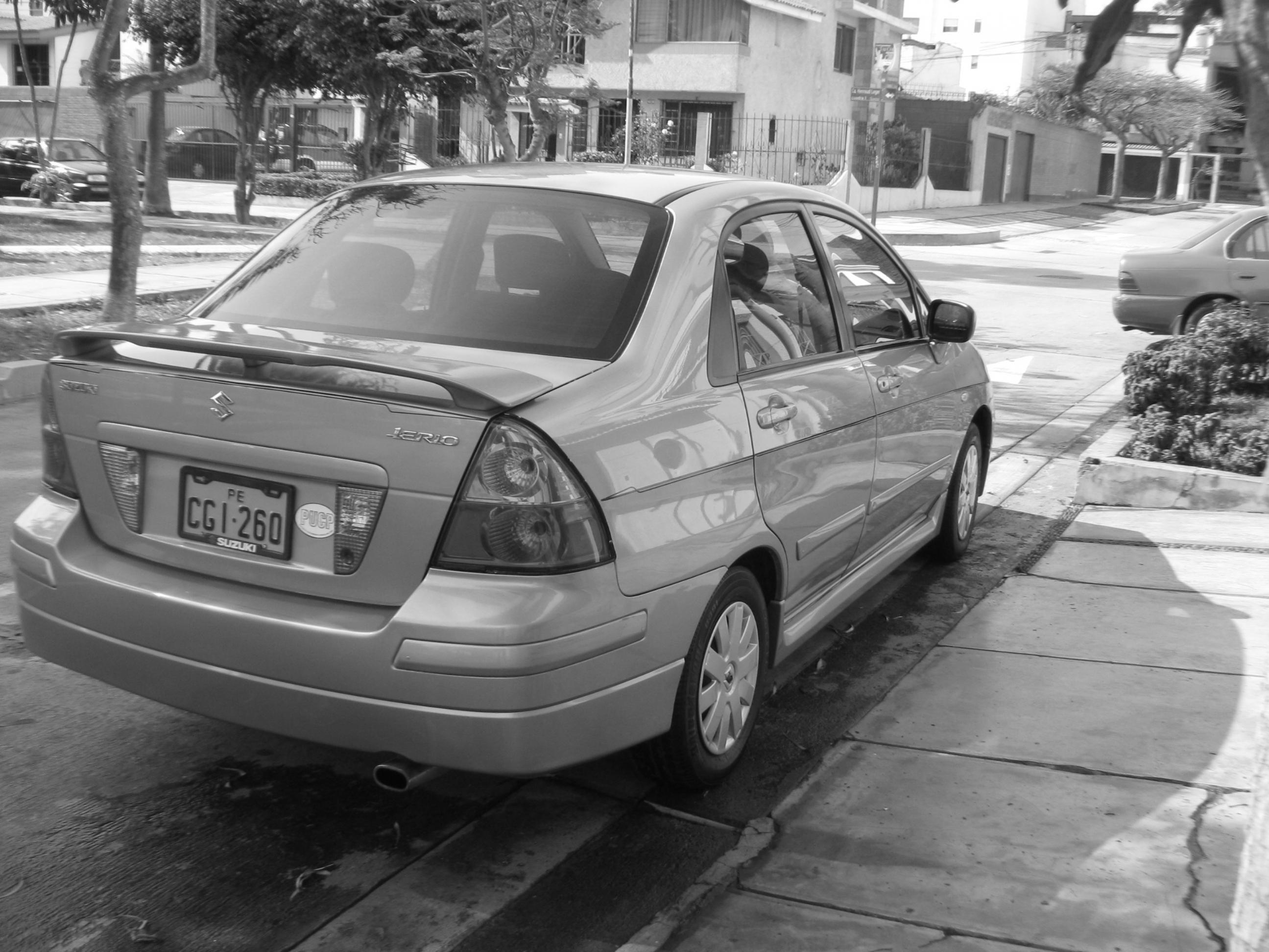car: (10, 170, 1000, 793)
